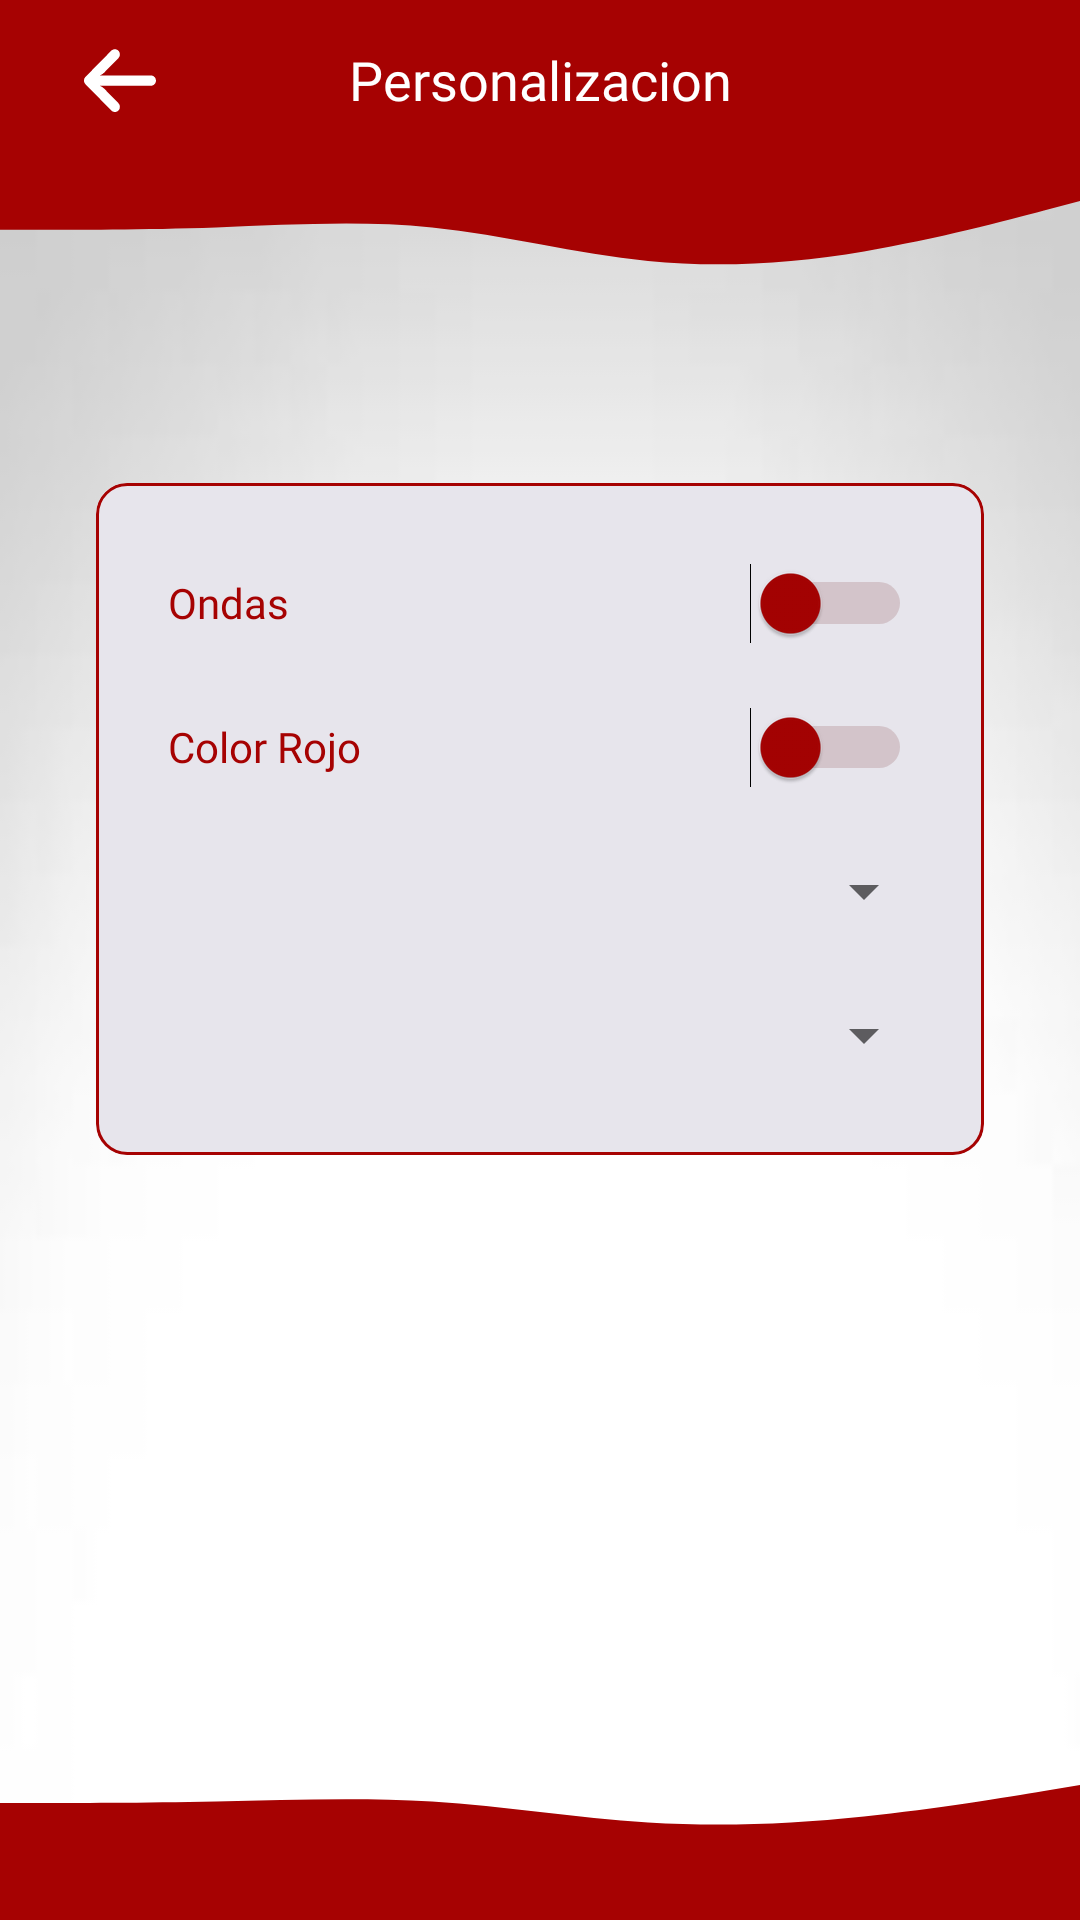

Icons on this 1080×1920 Android screen, each with its box as (x1, y1, x2, y2):
flecha: (84, 49, 156, 112)
